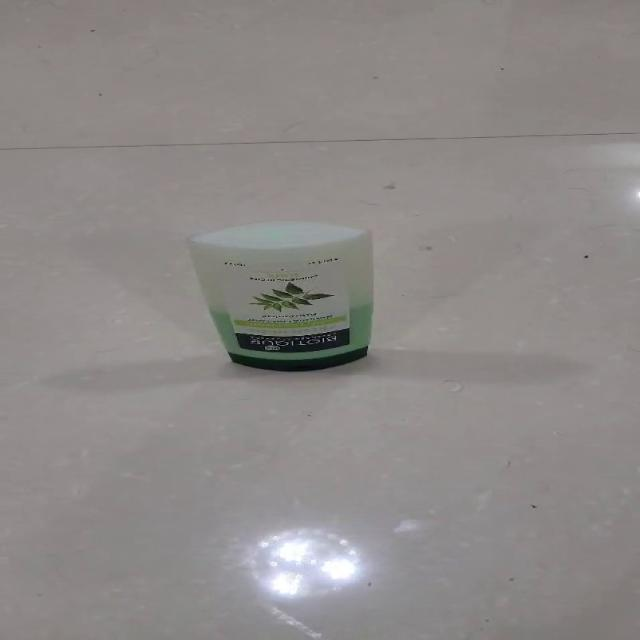plastic: (184, 219, 373, 371)
